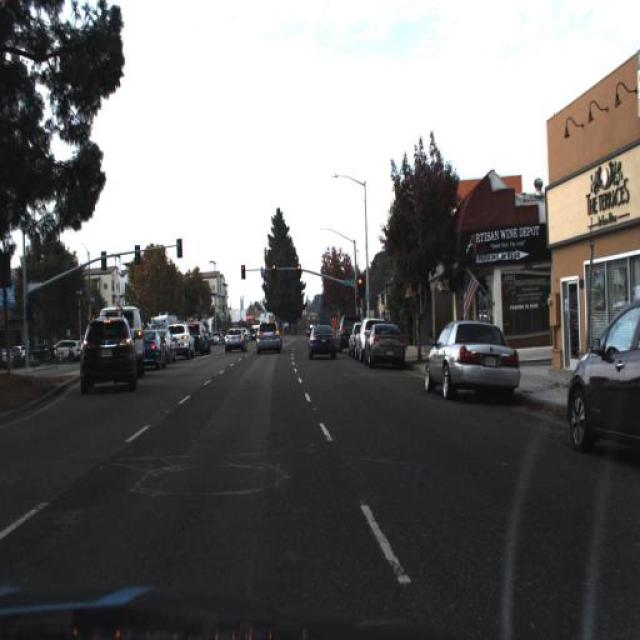car: (568, 299, 638, 456), (422, 312, 526, 403), (79, 310, 142, 395), (362, 321, 408, 374), (366, 322, 405, 366), (336, 304, 366, 354), (306, 321, 338, 363), (358, 316, 387, 362), (166, 319, 195, 361), (185, 316, 215, 356), (141, 322, 164, 374), (169, 322, 195, 363), (254, 318, 282, 354), (339, 314, 359, 356), (224, 324, 248, 352), (190, 324, 210, 354), (161, 330, 178, 364), (227, 329, 244, 350)
trafficLight-RedLeft: (356, 277, 366, 302)
